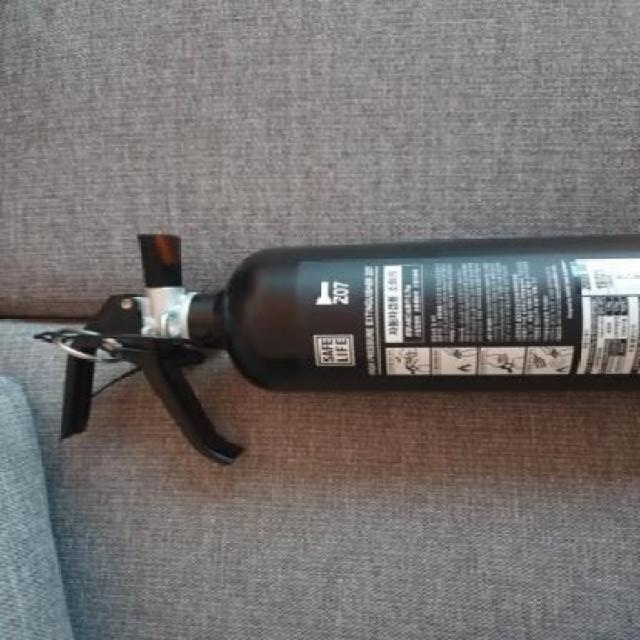fire extinguisher: (58, 232, 640, 466)
